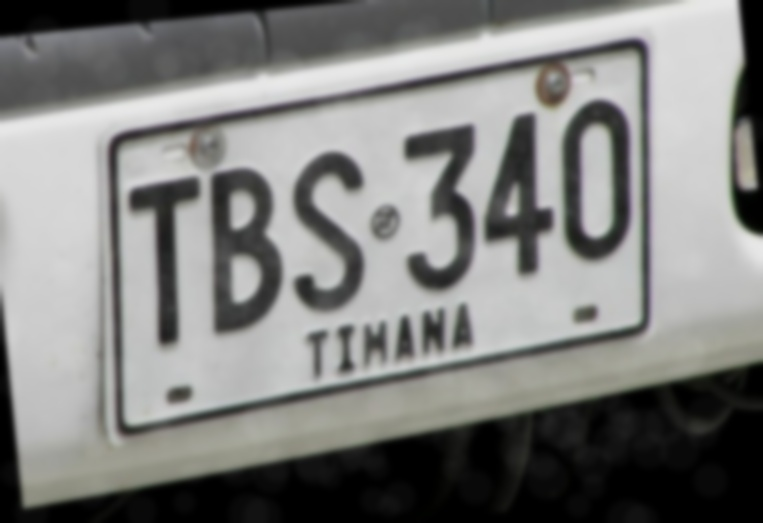placas: (66, 26, 691, 450)
